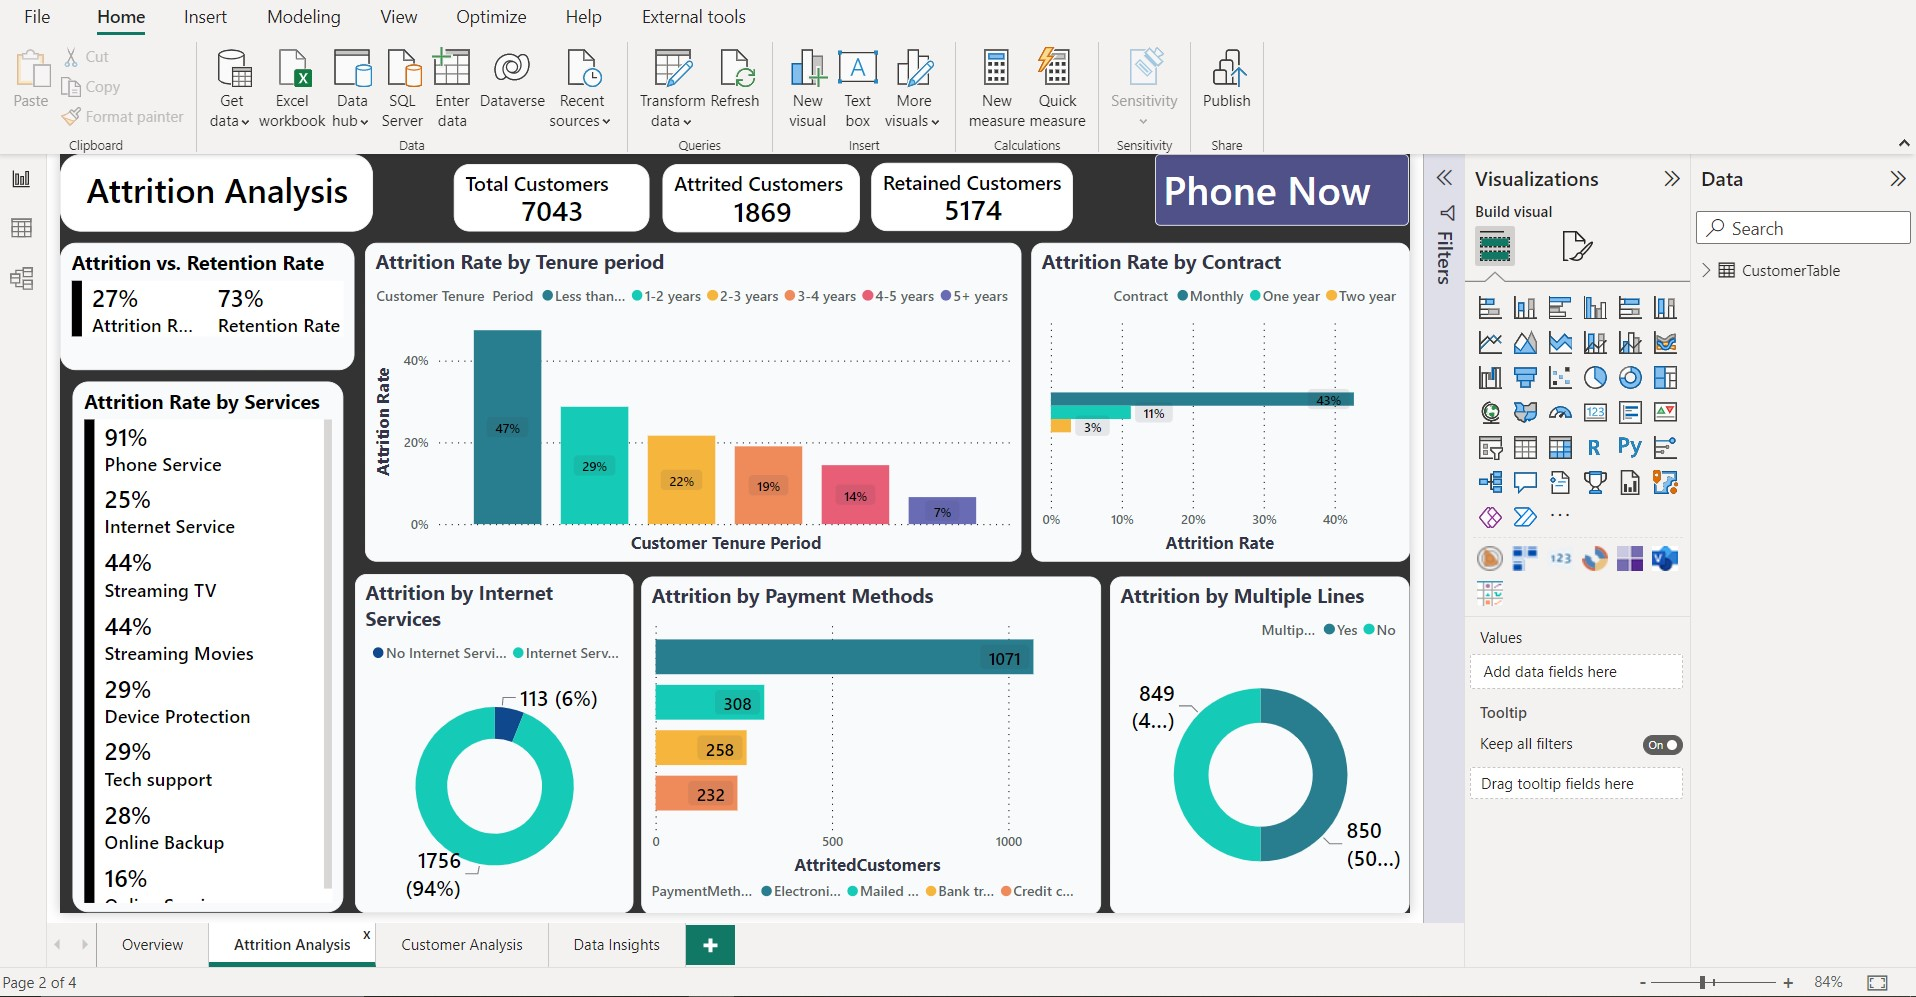

Layout of this report page (visuals, bound fields, positions):
{"tool":"powerbi","page":{"name":"Attrition Analysis","canvas":[1280,720],"ordinal":1},"visuals":[{"type":"textbox","box":[0,0,296.6,73.9],"z":0},{"type":"card","title":"Attrited Customers","fields":{"Values":["CustomerTable.Churn"]},"box":[571.6,9.1,187.5,64.8],"z":1000},{"type":"multiRowCard","title":"Attrition vs. Retention Rate","fields":{"Values":["CustomerTable.Attrition Rate","CustomerTable.Retention Rate"]},"box":[0,84.1,279.5,120.5],"z":2000},{"type":"card","title":"Retained Customers","fields":{"Values":["CustomerTable.Churn"]},"box":[769.3,8,190.9,64.8],"z":3000},{"type":"multiRowCard","title":"Attrition Rate by Services ","fields":{"Values":["CustomerTable.Attrittion_BY_PS","CustomerTable.Attrittion_BY_IS","CustomerTable.Attrition_By_ST","CustomerTable.Attrition_By_SM","CustomerTable.Attrition_By_DP","CustomerTable.Attrition_By_TP","CustomerTable.Attrition_By_OB","CustomerTable.Attrition_BY_OS"]},"box":[11.4,215.9,256.8,503.4],"z":4000},{"type":"columnChart","title":"Attrition Rate by Tenure period","fields":{"Y":["CustomerTable.Attrition Rate"],"Category":["CustomerTable.Customer Tenure  Period"],"Series":["CustomerTable.Customer Tenure  Period"]},"box":[288.6,84.1,622.7,302.3],"z":5000},{"type":"card","title":"Total Customers ","fields":{"Values":["CustomerTable.Churn"]},"box":[373.9,9.1,185.2,63.6],"z":6000},{"type":"barChart","title":"Attrition by Payment Methods","fields":{"Category":["CustomerTable.PaymentMethod"],"Series":["CustomerTable.PaymentMethod"],"Y":["CustomerTable.AttritedCustomers"]},"box":[551.1,400,436.4,320.5],"z":7000},{"type":"donutChart","title":"Attrition by Internet Services","fields":{"Y":["CustomerTable.NoInternetServiceAttrition","CustomerTable.InternetServiceAttrition"]},"box":[279.5,397.7,263.6,321.6],"z":8000},{"type":"textbox","box":[1038.6,0,240.9,68.2],"z":9000},{"type":"donutChart","title":"Attrition by Multiple Lines","fields":{"Category":["CustomerTable.MultipleLines"],"Y":["CustomerTable.AttritedCustomers"]},"box":[995.5,400,284.1,320.5],"z":10000},{"type":"clusteredBarChart","fields":{"Y":["CustomerTable.Attrition Rate"],"Series":["CustomerTable.Contract"]},"box":[920.5,84.1,359.1,302.3],"z":11000}]}

Visuals, with their boxes on the page's 1280x720 design canvas (x1, y1, x2, y2). These are canvas units, not pixel positions in the 1916x997 screenshot, which may show the page scaled, cropped or inside an application window:
textbox: {"x1": 0, "y1": 0, "x2": 297, "y2": 74}
"Attrited Customers" card: {"x1": 572, "y1": 9, "x2": 759, "y2": 74}
"Attrition vs. Retention Rate" multiRowCard: {"x1": 0, "y1": 84, "x2": 280, "y2": 205}
"Retained Customers" card: {"x1": 769, "y1": 8, "x2": 960, "y2": 73}
"Attrition Rate by Services " multiRowCard: {"x1": 11, "y1": 216, "x2": 268, "y2": 719}
"Attrition Rate by Tenure period" columnChart: {"x1": 289, "y1": 84, "x2": 911, "y2": 386}
"Total Customers " card: {"x1": 374, "y1": 9, "x2": 559, "y2": 73}
"Attrition by Payment Methods" barChart: {"x1": 551, "y1": 400, "x2": 988, "y2": 720}
"Attrition by Internet Services" donutChart: {"x1": 280, "y1": 398, "x2": 543, "y2": 719}
textbox: {"x1": 1039, "y1": 0, "x2": 1280, "y2": 68}
"Attrition by Multiple Lines" donutChart: {"x1": 996, "y1": 400, "x2": 1280, "y2": 720}
clusteredBarChart - CustomerTable.Attrition Rate x CustomerTable.Contract: {"x1": 920, "y1": 84, "x2": 1280, "y2": 386}
